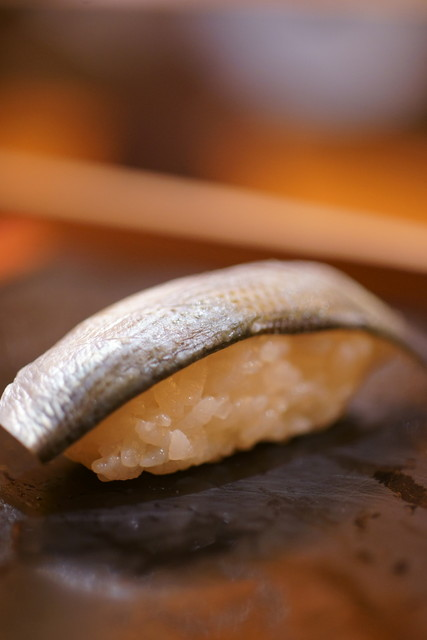spotted-shad: (1, 257, 427, 482)
